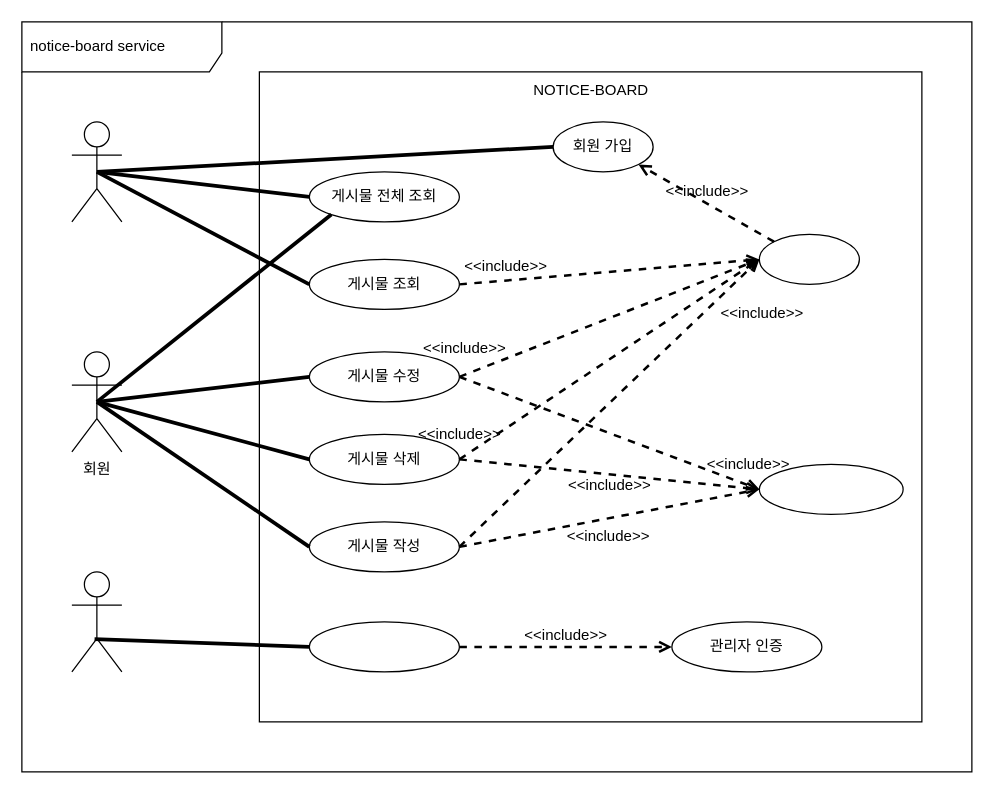
This 994x794 diagram has some shape labels left out. Here are the shapes that lost their labels. From the top down, the centre of each, then its label:
At (x=96, y=171): "비회원".
At (x=808, y=258): "로그인".
At (x=830, y=488): "작성자 인증".
At (x=96, y=621): "관리자".
At (x=383, y=646): "게시물 관리".
